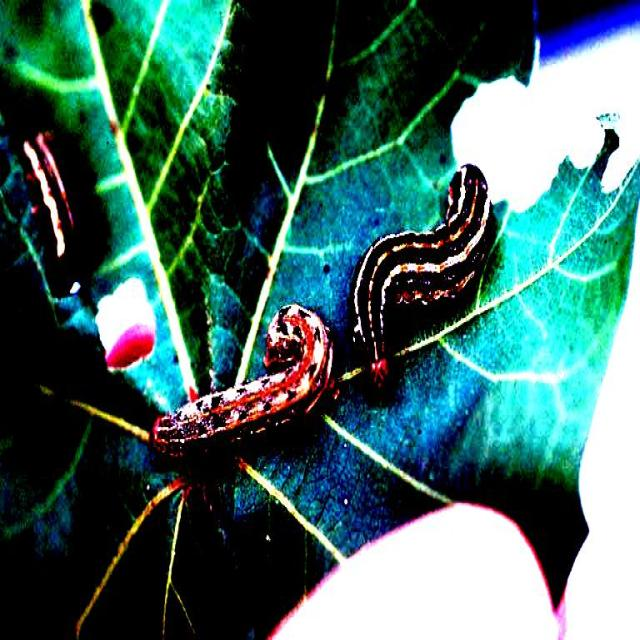Armyworm: (148, 283, 336, 508), (334, 150, 509, 390)
Armyworm_damage: (422, 24, 640, 337)
